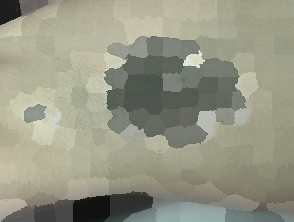vitiligo: (0, 10, 272, 180)
